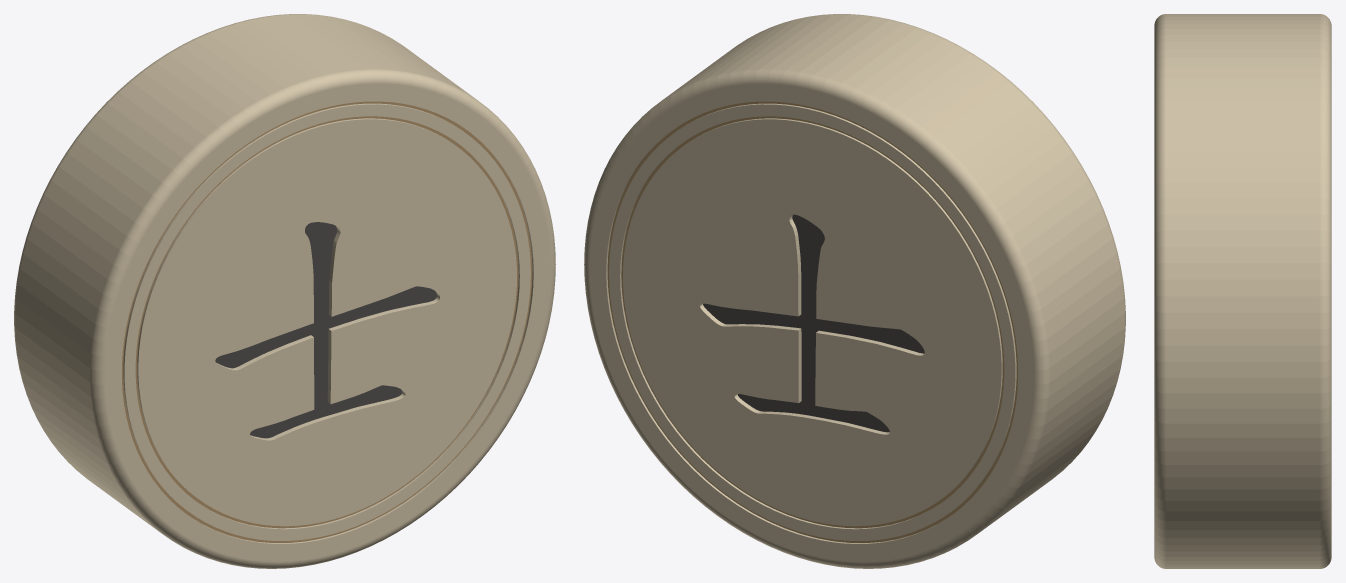
3 views of the same model, side by side, from view 1: azimuth 30°, elevation 25°; view 2: azimuth 150°, elevation 25°; view 3: azimuth 270°, elevation 25° (orthographic). The views are drawn at different scales.
Parts seen in each view (by area): view 1: wood, engraved_letters, engraved_border; view 2: wood, engraved_letters, engraved_border; view 3: wood.
Boxes of the visible parts, box(x1,y1,x2,y2) form: wood: box(14, 14, 555, 568); engraved_letters: box(215, 222, 436, 438); engraved_border: box(122, 101, 532, 542); wood: box(584, 14, 1125, 568); engraved_letters: box(703, 214, 924, 432); engraved_border: box(607, 101, 1017, 542); wood: box(1154, 14, 1331, 568).
Size of the model in its own units: 0.047 by 0.047 by 0.015.
